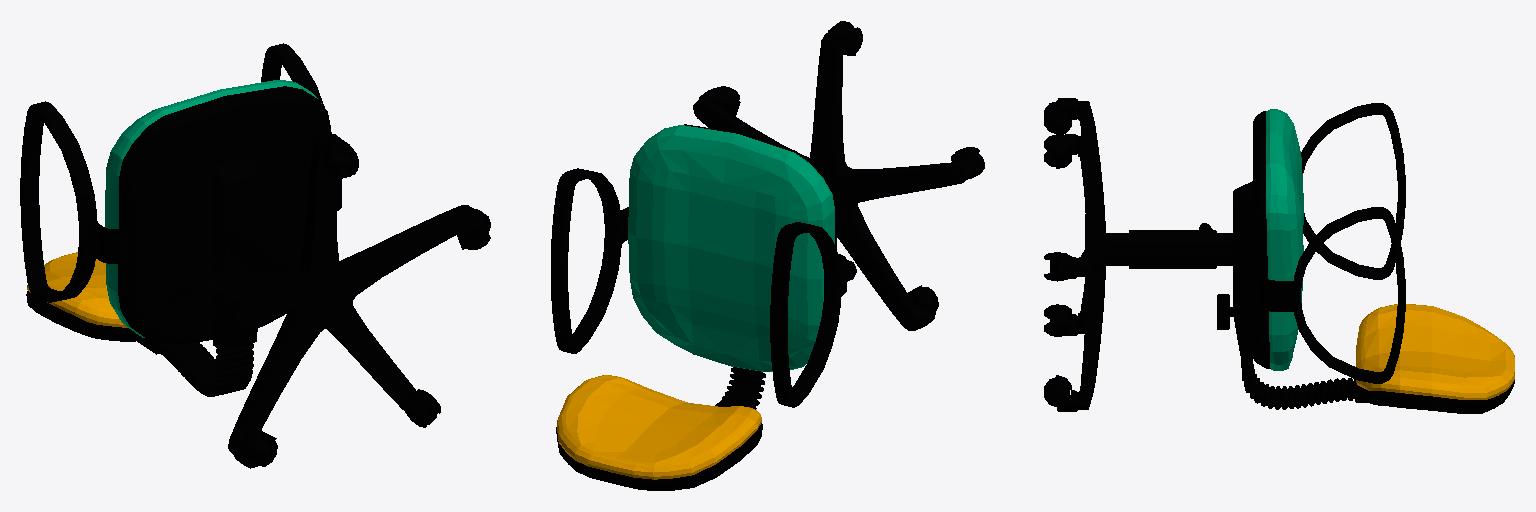
The robot description file, URDF, robot "s__1519":
<robot name="s__1519">


	<link name="0:virtual">
		<visual>
			<origin xyz="0.0 0.0 0.0" rpy="0 0 0"/>
			<geometry>
				<cylinder length="0" radius="0"/>
			</geometry>
		</visual>
	</link>


	<link name="1:static">
		<visual>
			<origin xyz="-0.0 -0.0 -0.0" rpy="0 0 0"/>
			<geometry>
				<mesh filename="../raw_data/s__1519/part_meshes/1.dae" />
			</geometry>
		</visual>
	</link>


	<link name="2:seat 1">
		<visual>
			<origin xyz="-1.2584471806492692e-05 -0.4335844963788986 -0.018378004569167036" rpy="0 0 0"/>
			<geometry>
				<mesh filename="../raw_data/s__1519/part_meshes/2.dae" />
			</geometry>
		</visual>
	</link>


	<link name="3:wheel 1">
		<visual>
			<origin xyz="0.15641089043886552 -0.02403067856459984 0.21379652798703902" rpy="0 0 0"/>
			<geometry>
				<mesh filename="../raw_data/s__1519/part_meshes/3.dae" />
			</geometry>
		</visual>
	</link>


	<link name="4:wheel 2">
		<visual>
			<origin xyz="0.253124532768649 -0.02403068511461015 -0.08725821230560911" rpy="0 0 0"/>
			<geometry>
				<mesh filename="../raw_data/s__1519/part_meshes/4.dae" />
			</geometry>
		</visual>
	</link>


	<link name="5:wheel 3">
		<visual>
			<origin xyz="1.6549675001625267e-05 -0.024030689365105218 -0.2733504018870984" rpy="0 0 0"/>
			<geometry>
				<mesh filename="../raw_data/s__1519/part_meshes/5.dae" />
			</geometry>
		</visual>
	</link>


	<link name="6:wheel 4">
		<visual>
			<origin xyz="-0.25312561988925025 -0.024030685021102727 -0.08730723904728924" rpy="0 0 0"/>
			<geometry>
				<mesh filename="../raw_data/s__1519/part_meshes/6.dae" />
			</geometry>
		</visual>
	</link>


	<link name="7:wheel 5">
		<visual>
			<origin xyz="-0.1564689997512141 -0.02403067850659113 0.21376599760897247" rpy="0 0 0"/>
			<geometry>
				<mesh filename="../raw_data/s__1519/part_meshes/7.dae" />
			</geometry>
		</visual>
	</link>


	<link name="8:caster 1">
		<visual>
			<origin xyz="1.7293443190836283e-05 -0.04157970007508993 -0.27711085744043085" rpy="0 0 0"/>
			<geometry>
				<mesh filename="../raw_data/s__1519/part_meshes/8.dae" />
			</geometry>
		</visual>
	</link>


	<link name="9:caster 2">
		<visual>
			<origin xyz="-0.25662374952847056 -0.04157970007508993 -0.08845996961031184" rpy="0 0 0"/>
			<geometry>
				<mesh filename="../raw_data/s__1519/part_meshes/9.dae" />
			</geometry>
		</visual>
	</link>


	<link name="10:caster 3">
		<visual>
			<origin xyz="-0.15861833631411867 -0.04157970007508993 0.21675782004865504" rpy="0 0 0"/>
			<geometry>
				<mesh filename="../raw_data/s__1519/part_meshes/10.dae" />
			</geometry>
		</visual>
	</link>


	<link name="11:caster 4">
		<visual>
			<origin xyz="0.15855627350104076 -0.04157970007508993 0.2167939859199967" rpy="0 0 0"/>
			<geometry>
				<mesh filename="../raw_data/s__1519/part_meshes/11.dae" />
			</geometry>
		</visual>
	</link>


	<link name="12:caster 5">
		<visual>
			<origin xyz="0.2743288571334362 -0.04157970007508993 -0.094225034701833" rpy="0 0 0"/>
			<geometry>
				<mesh filename="../raw_data/s__1519/part_meshes/12.dae" />
			</geometry>
		</visual>
	</link>


	<link name="13:lever 1">
		<visual>
			<origin xyz="0.037073327315791035 -0.36934199929237366 0.08246799178862756" rpy="0 0 0"/>
			<geometry>
				<mesh filename="../raw_data/s__1519/part_meshes/13.dae" />
			</geometry>
		</visual>
	</link>


	<link name="14:gas lift piece 2">
		<visual>
			<origin xyz="-8.547734425330689e-06 -0.23213400319218636 -0.0040706454415811635" rpy="0 0 0"/>
			<geometry>
				<mesh filename="../raw_data/s__1519/part_meshes/14.dae" />
			</geometry>
		</visual>
	</link>


	<link name="15:knob 1">
		<visual>
			<origin xyz="-8.60169529914856e-06 -0.337973490357399 0.12350910529494286" rpy="0 0 0"/>
			<geometry>
				<mesh filename="../raw_data/s__1519/part_meshes/15.dae" />
			</geometry>
		</visual>
	</link>


	<link name="16:backrest 1">
		<visual>
			<origin xyz="0.0002705007791519165 -0.7237469851970673 0.23088650405406952" rpy="0 0 0"/>
			<geometry>
				<mesh filename="../raw_data/s__1519/part_meshes/16.dae" />
			</geometry>
		</visual>
	</link>


	<joint name="0:virtual::1:static" type="fixed">
		<parent link="0:virtual"/>
		<child link="1:static"/>
		<origin xyz="0.0 0.0 0.0" rpy="0 0 0"/>
	</joint>


	<joint name="14:gas lift piece 2::2:seat 1_translation" type="prismatic">
		<parent link="14:gas lift piece 2"/>
		<child link="2:seat 1"/>
		<origin xyz="4.036737381162003e-06 0.20145049318671227 0.014307359127585873" rpy="0 0 0"/>
		<limit lower="-0.021013006567955017" upper="0.021013006567955017" effort="10" velocity="3"/>
		<axis xyz="0.0 1.0 0.0"/>
	</joint>


	<joint name="11:caster 4::3:wheel 1_rotation" type="revolute">
		<parent link="11:caster 4"/>
		<child link="3:wheel 1"/>
		<origin xyz="0.002145383062175238 -0.017549021510490093 0.0029974579329576923" rpy="0 0 0"/>
		<limit lower="-3.141592653589793" upper="3.141592653589793" effort="10" velocity="3"/>
		<axis xyz="-0.8058329718730753 0.0 0.5921429062668975"/>
	</joint>


	<joint name="12:caster 5::4:wheel 2_rotation" type="revolute">
		<parent link="12:caster 5"/>
		<child link="4:wheel 2"/>
		<origin xyz="0.021204324364787197 -0.01754901496047978 -0.0069668223962238846" rpy="0 0 0"/>
		<limit lower="-3.141592653589793" upper="3.141592653589793" effort="10" velocity="3"/>
		<axis xyz="-0.3055923545810236 0.0 -0.9521624403543895"/>
	</joint>


	<joint name="8:caster 1::5:wheel 3_rotation" type="revolute">
		<parent link="8:caster 1"/>
		<child link="5:wheel 3"/>
		<origin xyz="7.437681892110163e-07 -0.017549010709984714 -0.0037604555533324313" rpy="0 0 0"/>
		<limit lower="-3.141592653589793" upper="3.141592653589793" effort="10" velocity="3"/>
		<axis xyz="-0.9999999835390749 0.0 -0.00018144379279052785"/>
	</joint>


	<joint name="9:caster 2::6:wheel 4_rotation" type="revolute">
		<parent link="9:caster 2"/>
		<child link="6:wheel 4"/>
		<origin xyz="-0.0034981296392203043 -0.017549015053987205 -0.0011527305630226053" rpy="0 0 0"/>
		<limit lower="-3.141592653589793" upper="3.141592653589793" effort="10" velocity="3"/>
		<axis xyz="0.30592917233523004 0.0 -0.9520542744582797"/>
	</joint>


	<joint name="10:caster 3::7:wheel 5_rotation" type="revolute">
		<parent link="10:caster 3"/>
		<child link="7:wheel 5"/>
		<origin xyz="-0.0021493365629045857 -0.0175490215684988 0.0029918224396825732" rpy="0 0 0"/>
		<limit lower="-3.141592653589793" upper="3.141592653589793" effort="10" velocity="3"/>
		<axis xyz="-0.805630512400477 0.0 -0.592418329805337"/>
	</joint>


	<joint name="0:virtual::8:caster 1_rotation" type="revolute">
		<parent link="0:virtual"/>
		<child link="8:caster 1"/>
		<origin xyz="-1.7293443190836283e-05 0.04157970007508993 0.27711085744043085" rpy="0 0 0"/>
		<limit lower="-3.141592653589793" upper="3.141592653589793" effort="10" velocity="3"/>
		<axis xyz="0.0 1.0 0.0"/>
	</joint>


	<joint name="0:virtual::9:caster 2_rotation" type="revolute">
		<parent link="0:virtual"/>
		<child link="9:caster 2"/>
		<origin xyz="0.25662374952847056 0.04157970007508993 0.08845996961031184" rpy="0 0 0"/>
		<limit lower="-3.141592653589793" upper="3.141592653589793" effort="10" velocity="3"/>
		<axis xyz="0.0 1.0 0.0"/>
	</joint>


	<joint name="0:virtual::10:caster 3_rotation" type="revolute">
		<parent link="0:virtual"/>
		<child link="10:caster 3"/>
		<origin xyz="0.15861833631411867 0.04157970007508993 -0.21675782004865504" rpy="0 0 0"/>
		<limit lower="-3.141592653589793" upper="3.141592653589793" effort="10" velocity="3"/>
		<axis xyz="0.0 1.0 0.0"/>
	</joint>


	<joint name="0:virtual::11:caster 4_rotation" type="revolute">
		<parent link="0:virtual"/>
		<child link="11:caster 4"/>
		<origin xyz="-0.15855627350104076 0.04157970007508993 -0.2167939859199967" rpy="0 0 0"/>
		<limit lower="-3.141592653589793" upper="3.141592653589793" effort="10" velocity="3"/>
		<axis xyz="0.0 1.0 0.0"/>
	</joint>


	<joint name="0:virtual::12:caster 5_rotation" type="revolute">
		<parent link="0:virtual"/>
		<child link="12:caster 5"/>
		<origin xyz="-0.2743288571334362 0.04157970007508993 0.094225034701833" rpy="0 0 0"/>
		<limit lower="-3.141592653589793" upper="3.141592653589793" effort="10" velocity="3"/>
		<axis xyz="0.0 1.0 0.0"/>
	</joint>


	<joint name="14:gas lift piece 2::13:lever 1_rotation" type="revolute">
		<parent link="14:gas lift piece 2"/>
		<child link="13:lever 1"/>
		<origin xyz="-0.037081875050216366 0.1372079961001873 -0.08653863723020871" rpy="0 0 0"/>
		<limit lower="-0.17278759594743862" upper="0.10995574287564278" effort="10" velocity="3"/>
		<axis xyz="0.0 0.0 1.0"/>
	</joint>


	<joint name="0:virtual::14:gas lift piece 2_rotation" type="revolute">
		<parent link="0:virtual"/>
		<child link="14:gas lift piece 2"/>
		<origin xyz="8.547734425330689e-06 0.23213400319218636 0.0040706454415811635" rpy="0 0 0"/>
		<limit lower="-3.141592653589793" upper="3.141592653589793" effort="10" velocity="3"/>
		<axis xyz="0.0 1.0 0.0"/>
	</joint>


	<joint name="14:gas lift piece 2::15:knob 1_rotation" type="revolute">
		<parent link="14:gas lift piece 2"/>
		<child link="15:knob 1"/>
		<origin xyz="5.396087381787096e-08 0.10583948716521263 -0.12757975073652403" rpy="0 0 0"/>
		<limit lower="-3.141592653589793" upper="3.141592653589793" effort="10" velocity="3"/>
		<axis xyz="0.0 1.0 0.0"/>
	</joint>


	<joint name="14:gas lift piece 2::16:backrest 1_translation" type="prismatic">
		<parent link="14:gas lift piece 2"/>
		<child link="16:backrest 1"/>
		<origin xyz="-0.0002790485135772472 0.4916129820048809 -0.2349571494956507" rpy="0 0 0"/>
		<limit lower="-0.0432455503940582" upper="0.0227544496059418" effort="10" velocity="3"/>
		<axis xyz="0.0 1.0 0.0"/>
	</joint>


</robot>

--- What the picture shows (computed from the rendered views, not written in the file) ---
Views: 3 orthographic renders of the robot side by side, from view 1: azimuth 30°, elevation 25°; view 2: azimuth 150°, elevation 25°; view 3: azimuth 270°, elevation 25°.
Model s__1519 with 17 links and 16 joints (13 revolute, 2 prismatic, 1 fixed), rooted at 0:virtual, posed all joints at 0.
Visible links, largest first — view 1: 2:seat 1, 1:static, 14:gas lift piece 2, 16:backrest 1, 15:knob 1, 3:wheel 1, 6:wheel 4, 5:wheel 3, 4:wheel 2, 7:wheel 5, 12:caster 5; view 2: 2:seat 1, 16:backrest 1, 1:static, 14:gas lift piece 2; view 3: 2:seat 1, 16:backrest 1, 14:gas lift piece 2, 1:static, 5:wheel 3, 7:wheel 5, 4:wheel 2.
Link boxes in pixels (x1,y1,x2,y2): 2:seat 1: [20, 43, 341, 343]; 1:static: [175, 132, 471, 454]; 14:gas lift piece 2: [137, 157, 301, 396]; 16:backrest 1: [26, 252, 148, 341]; 15:knob 1: [229, 301, 267, 331]; 3:wheel 1: [241, 431, 277, 466]; 6:wheel 4: [456, 214, 490, 249]; 5:wheel 3: [323, 146, 358, 178]; 4:wheel 2: [193, 279, 225, 313]; 7:wheel 5: [404, 390, 440, 427]; 12:caster 5: [179, 277, 225, 307]; 2:seat 1: [551, 124, 846, 407]; 16:backrest 1: [556, 375, 762, 490]; 1:static: [693, 30, 972, 330]; 14:gas lift piece 2: [715, 182, 836, 409]; 2:seat 1: [1253, 103, 1405, 383]; 16:backrest 1: [1356, 304, 1514, 413]; 14:gas lift piece 2: [1106, 181, 1367, 409]; 1:static: [1078, 101, 1105, 409]; 5:wheel 3: [1044, 101, 1069, 133]; 7:wheel 5: [1044, 377, 1069, 406]; 4:wheel 2: [1044, 135, 1069, 166].
Size in the robot's own frame: 0.58 by 0.8712 by 0.62 metres.
Meshes: 16 distinct files referenced, 16 mesh visuals loaded (16 Collada DAE).
